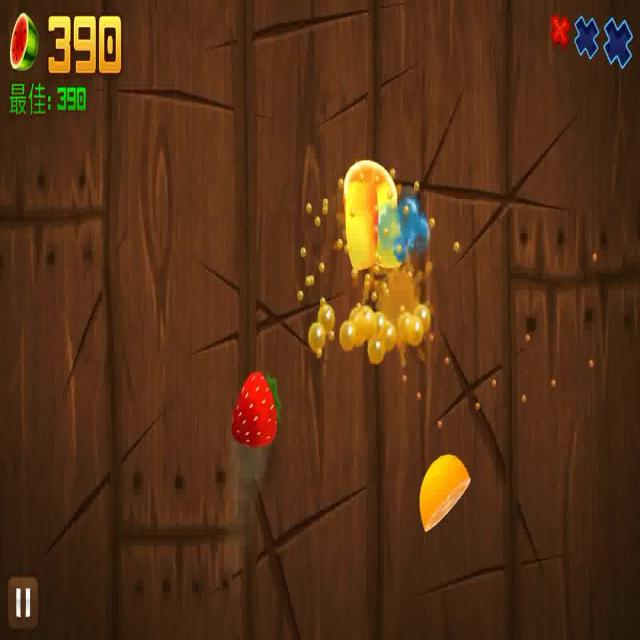fruit: (339, 163, 401, 252), (418, 453, 467, 534), (231, 369, 277, 450)
